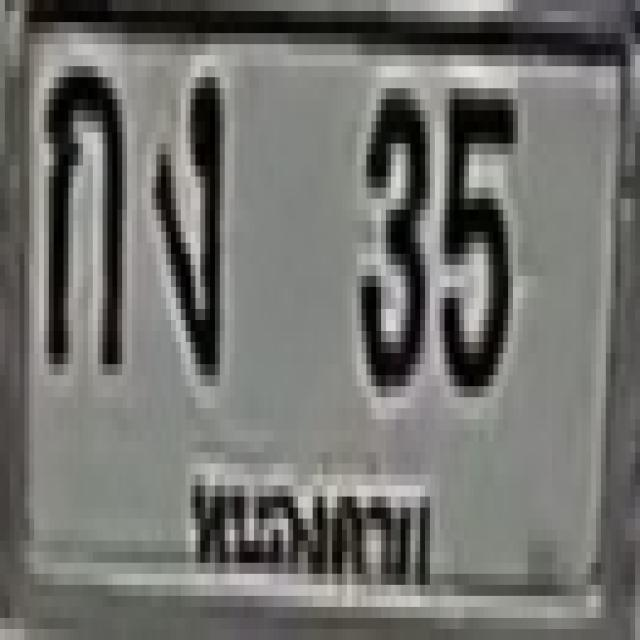-: (44, 55, 117, 364), (151, 66, 220, 364)
3: (357, 77, 425, 375)
5: (440, 77, 513, 386)
NKI: (182, 450, 448, 626)
